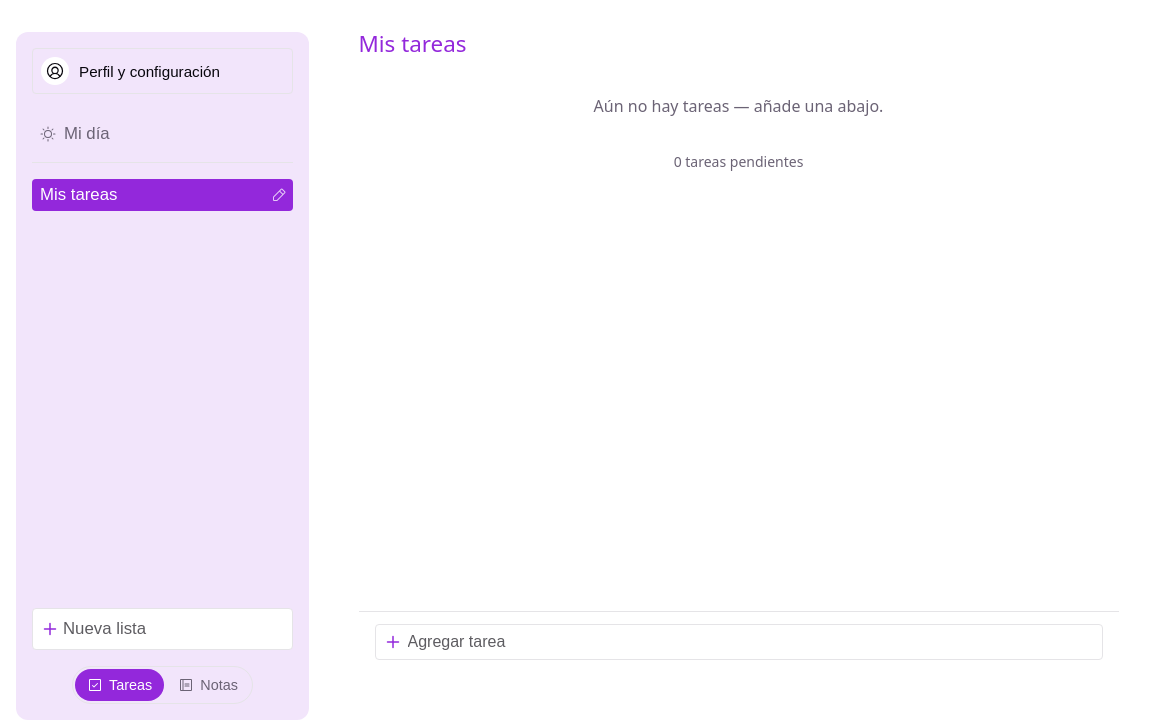
Test: App › deletes a list and its tasks with an undo toast, falling back to another list
In the field named "nombre de la nueva lista": [162, 629] box [32,608,293,650], type "Work"
Then press Enter
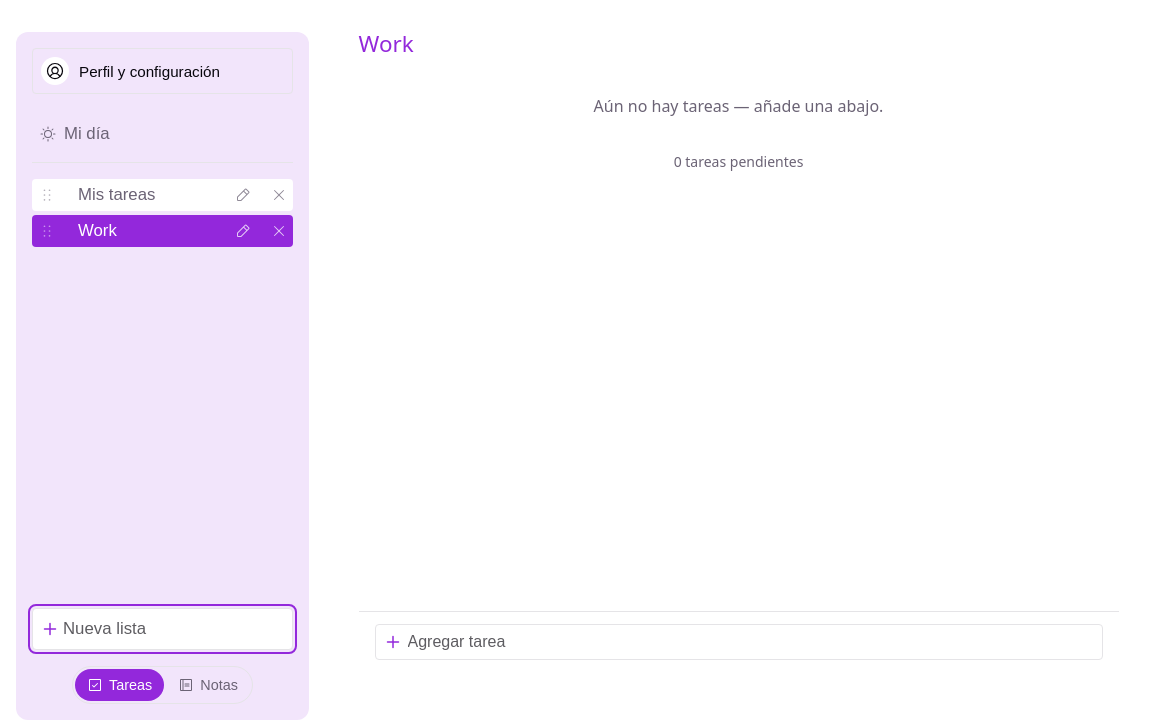
In the field named "texto de la nueva tarea": [738, 642] box [374,624,1102,660], type "Ship feature"
Then press Enter
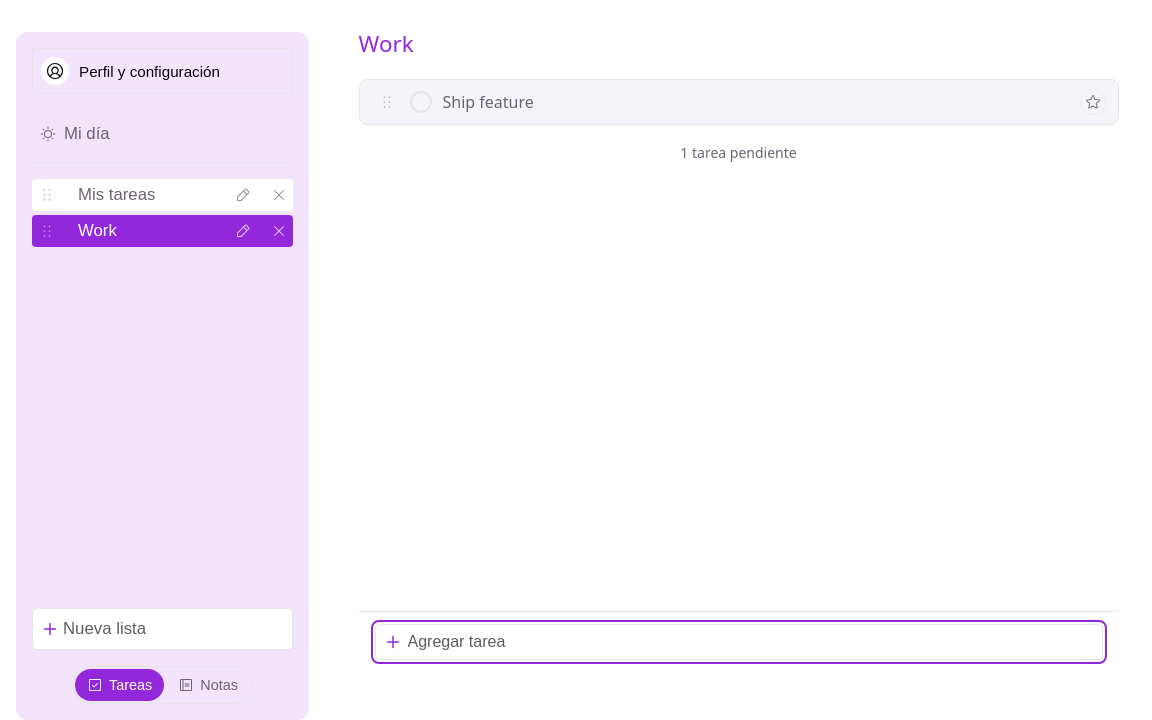
Click the button named "eliminar lista \"work\"": [279, 231] box [265,221,293,241]
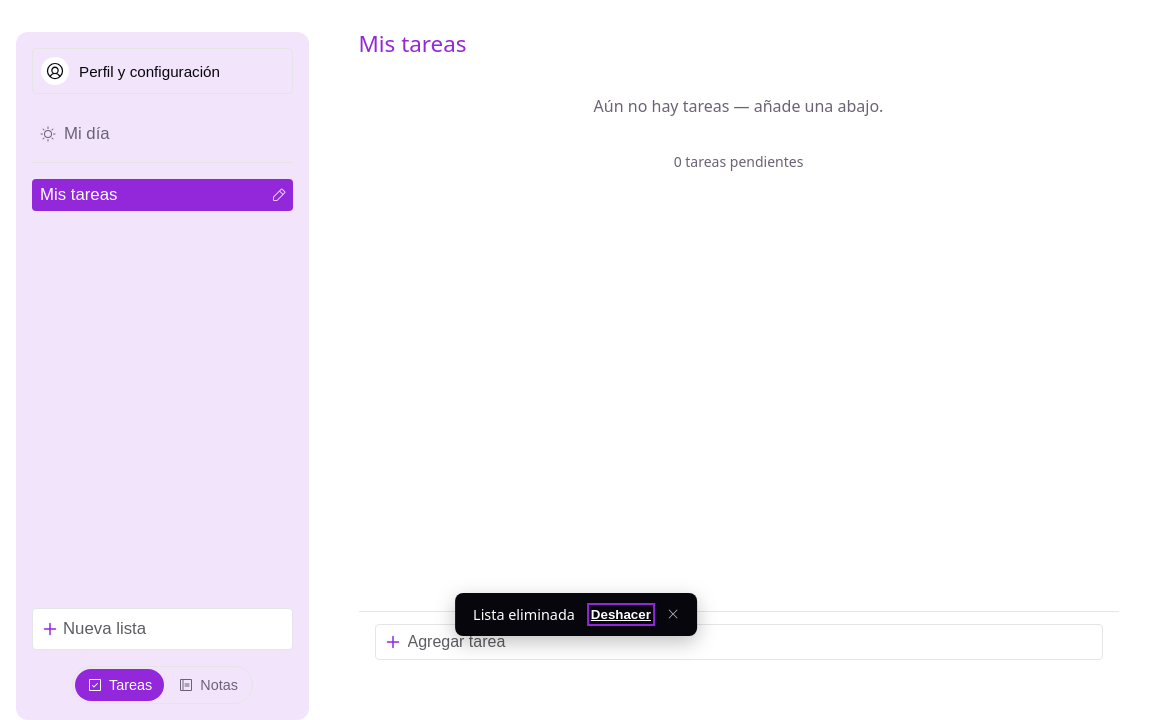
Expected: the button "Mis tareas" is shown, [32,179,257,211]
Now the text "Lista eliminada" is shown, box [473,603,575,626]
Now the button "Work" is gone
